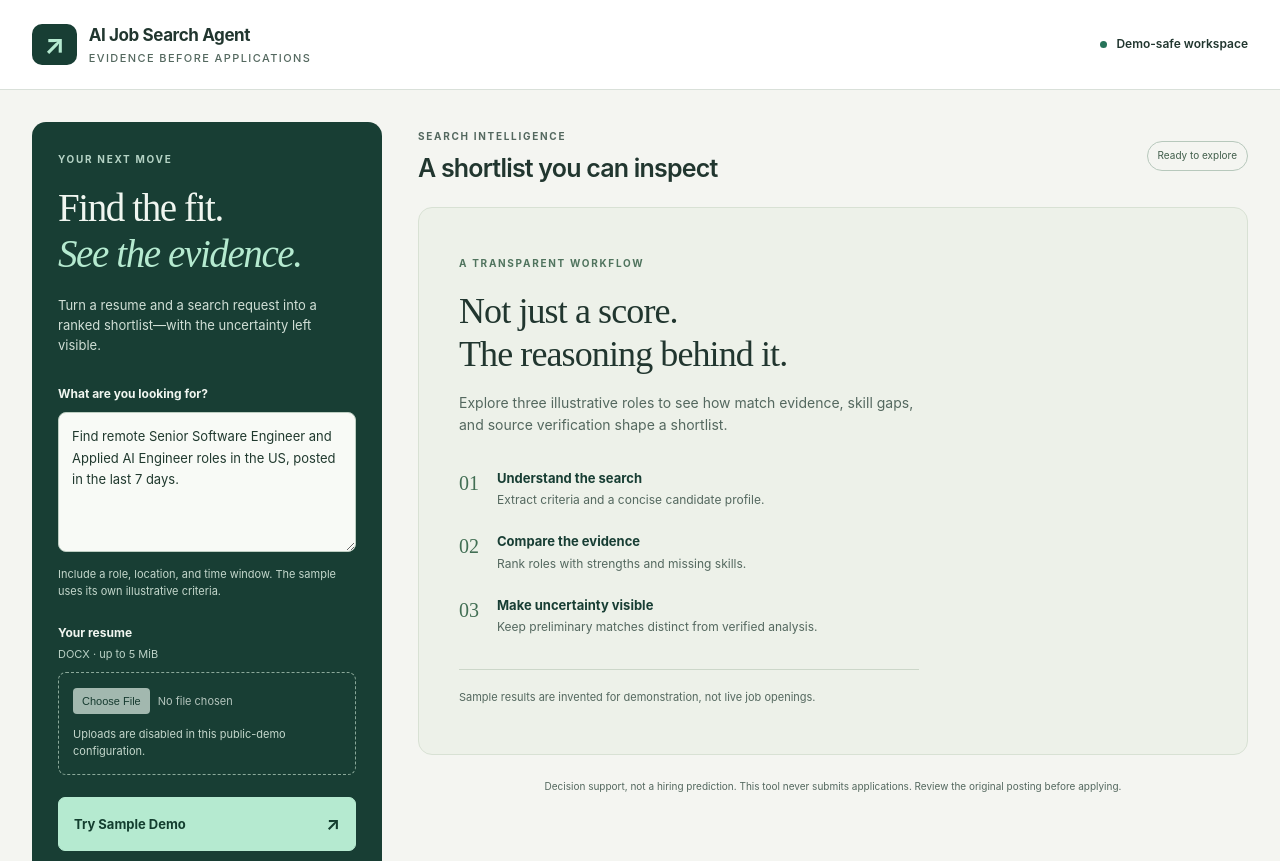
Test case: safe demo workspace › renders an empty result without treating it as a failure
What coordinates should you click on to do the following:
click the button "Try Sample Demo ↗"
I would click on:
 (130, 824)
Its box is [58,797,356,851].
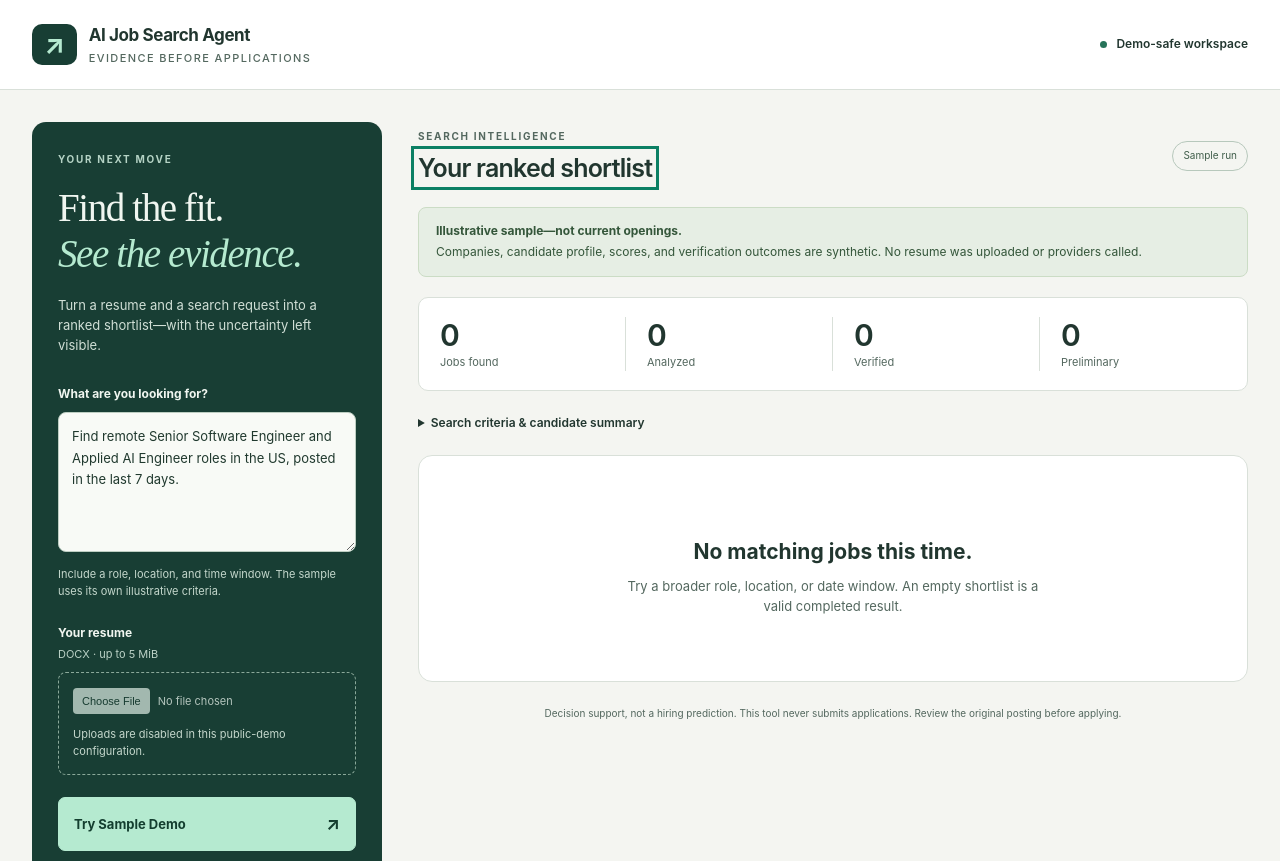
Check: the heading "No matching jobs this time." is shown, box [694,539,972,564]
